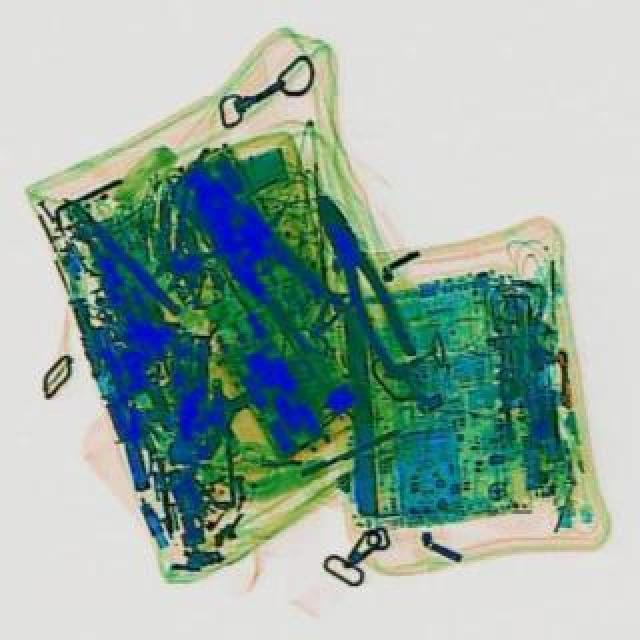wrench: (164, 154, 348, 350), (300, 188, 422, 380)
